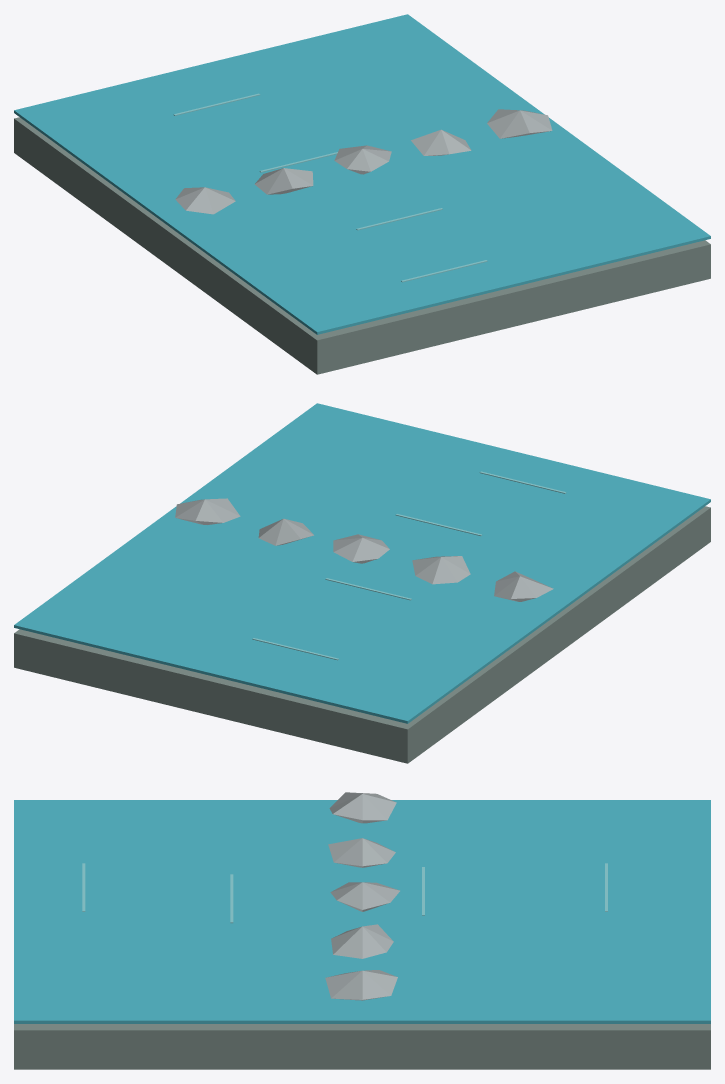
Rendered from river_crossing_stones.glb.
3 renders of one model, top to bottom at view 1: azimuth 30°, elevation 25°; view 2: azimuth 150°, elevation 25°; view 3: azimuth 270°, elevation 25°, orthographic. The views are drawn at different scales.
Visible parts, largest first — view 1: river_crossing_stones; view 2: river_crossing_stones; view 3: river_crossing_stones.
Part boxes in pixels (left/top/right/bottom): river_crossing_stones: left=14, top=14, right=710, bottom=374; river_crossing_stones: left=14, top=403, right=710, bottom=763; river_crossing_stones: left=14, top=792, right=710, bottom=1069.
Bounding box in the file's own units: 6 × 0.975 × 8.
